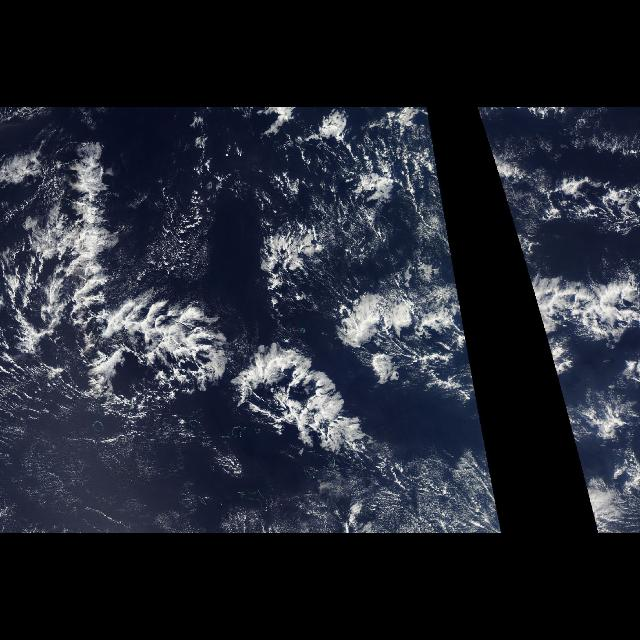Fish: (0, 135, 486, 478), (488, 141, 624, 447)
Sugar: (1, 381, 266, 534)
